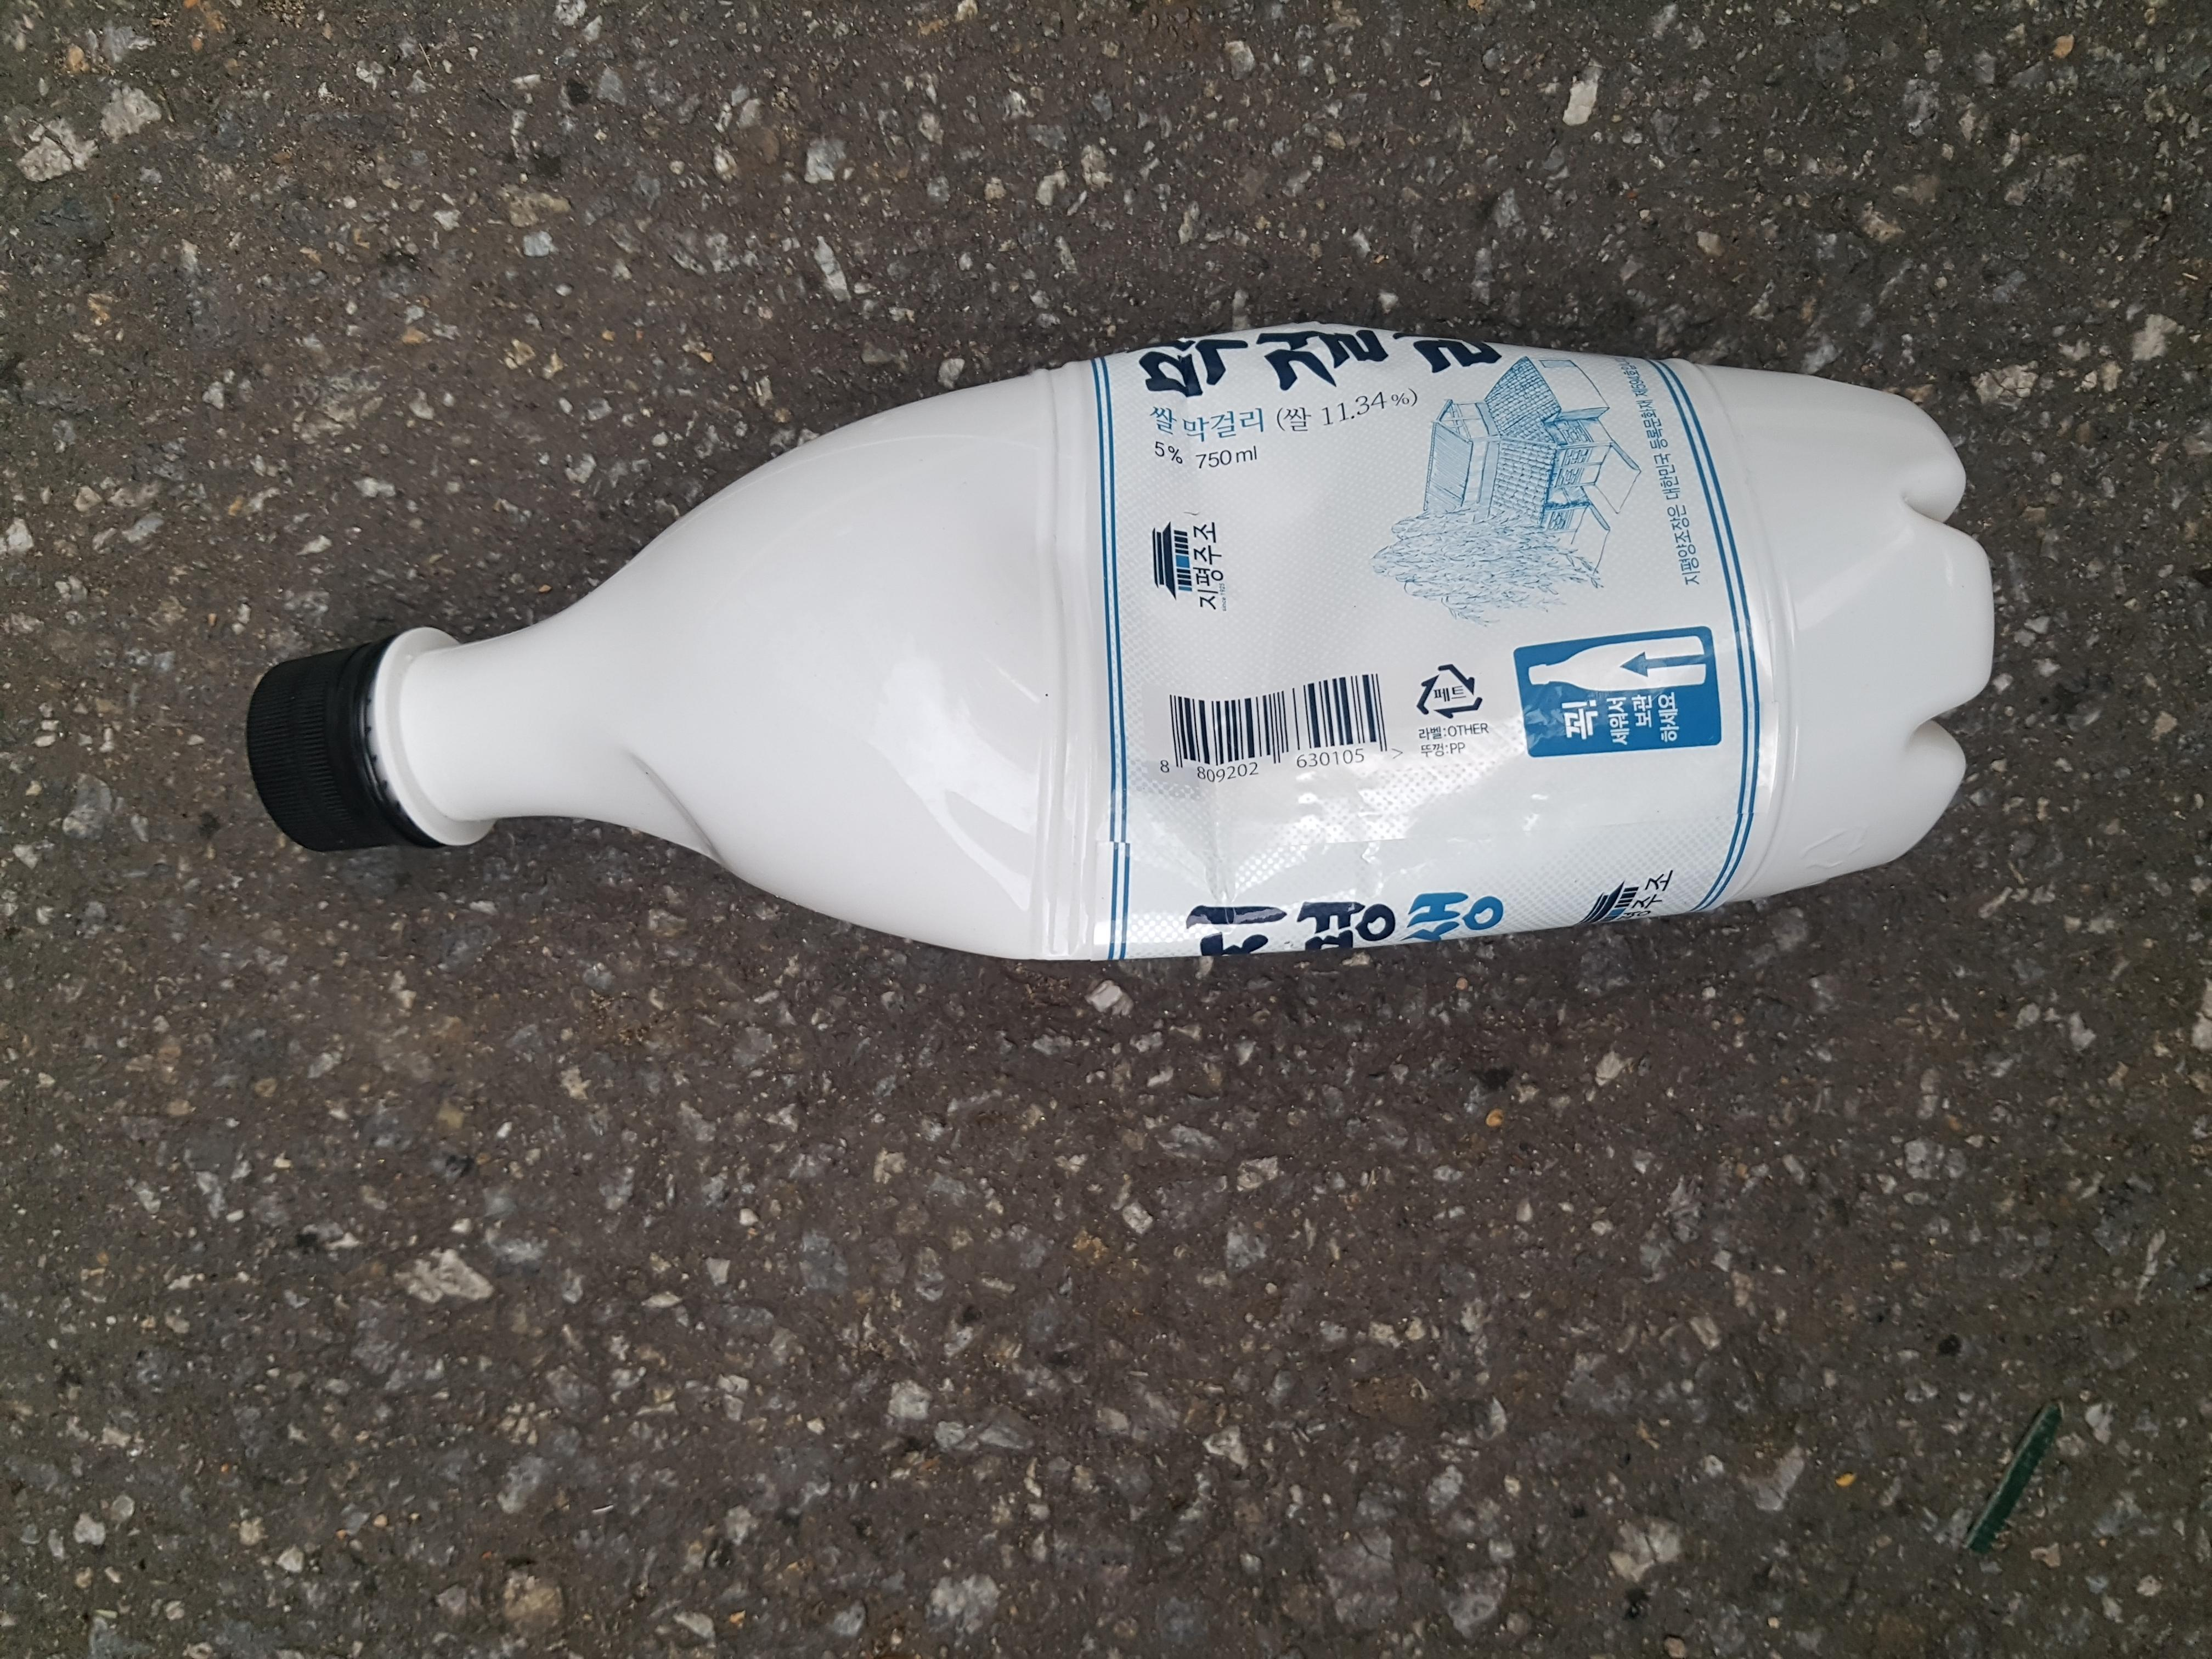bottle: (658, 791, 1977, 870)
